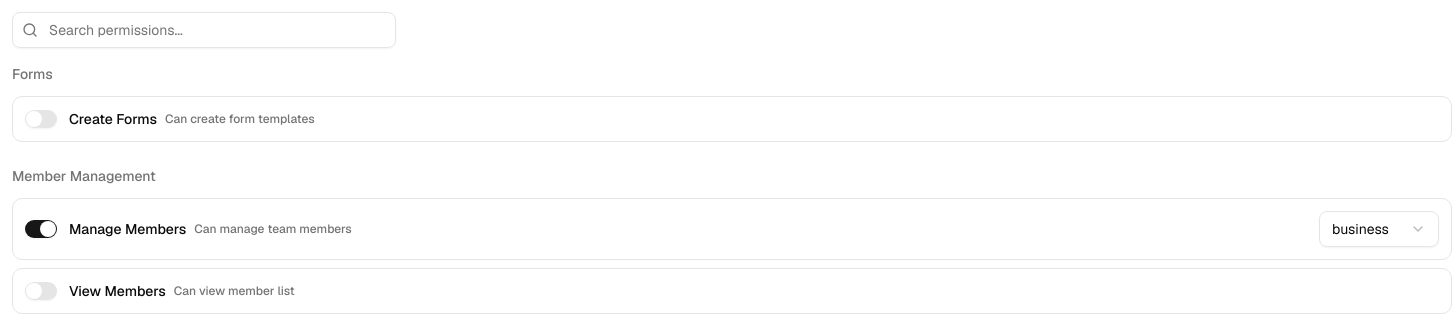
Test: PermissionsEditor › shows empty message when no results
Type "zzz" into the field with placeholder "Search permissions..." at (204, 30), box [12, 12, 396, 48]
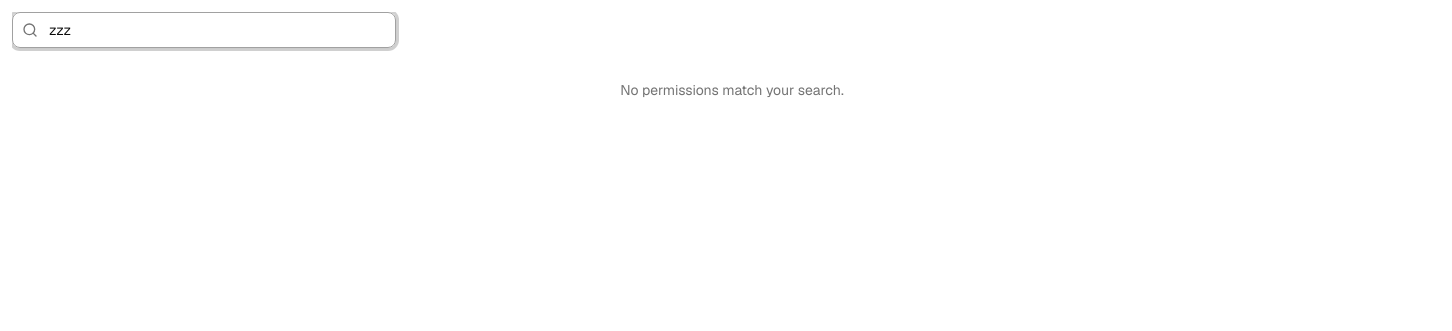
Result: the text "No permissions match your search." is shown at [620, 81, 844, 99]
